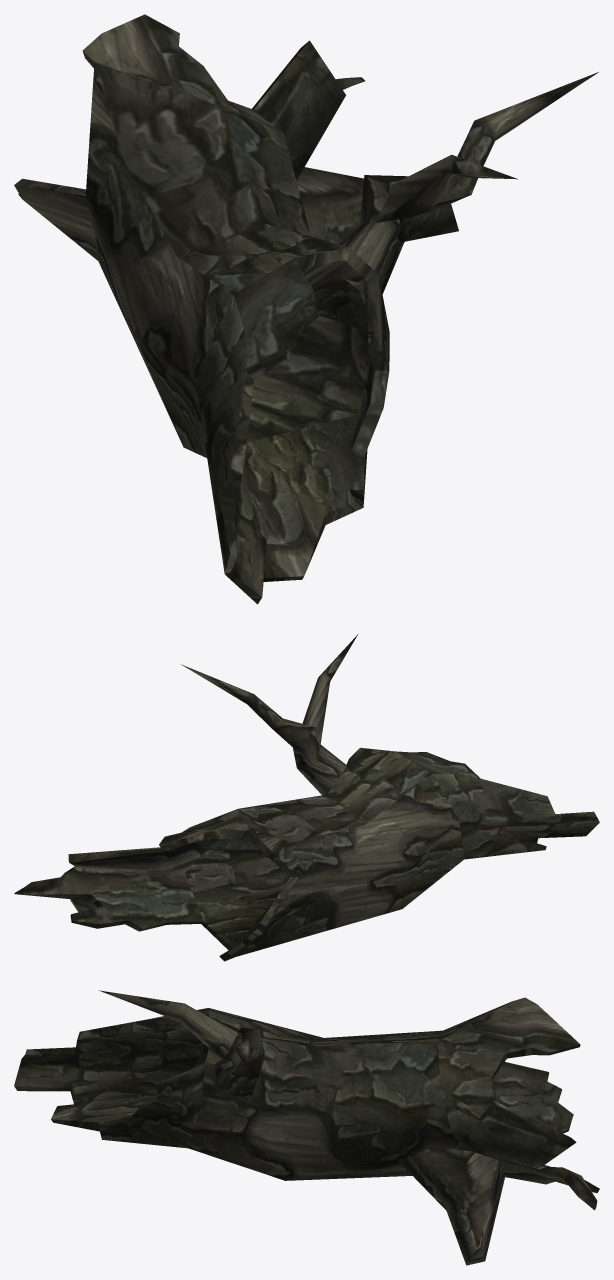
File: D_shu005.fbx
The picture shows the model from 3 angles, top to bottom: view 1: azimuth 30°, elevation 25°; view 2: azimuth 150°, elevation 25°; view 3: azimuth 270°, elevation 25°; orthographic projection. The views are drawn at different scales.
Visible parts, largest first — view 1: D_shu005; view 2: D_shu005; view 3: D_shu005.
Boxes of the visible parts, left/top/right/bottom form: D_shu005: left=14, top=14, right=598, bottom=604; D_shu005: left=14, top=634, right=599, bottom=961; D_shu005: left=14, top=990, right=599, bottom=1265.
Size of the model in its own units: 217 by 117 by 289.
